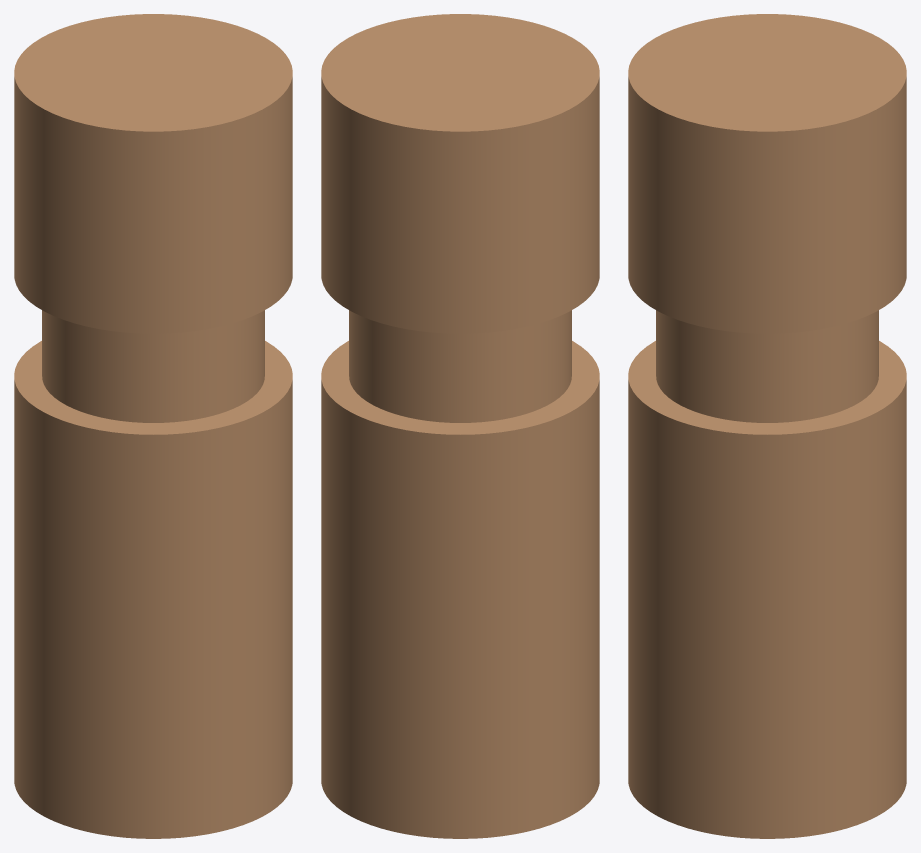
The model's file is step_12.glb.
3 renders of one model, left to right at view 1: azimuth 30°, elevation 25°; view 2: azimuth 150°, elevation 25°; view 3: azimuth 270°, elevation 25°, orthographic.
Parts seen in each view (by area): view 1: part__screw M20 x 2.5 x 56; view 2: part__screw M20 x 2.5 x 56; view 3: part__screw M20 x 2.5 x 56.
Part boxes in pixels (x1,y1,x2,y2): part__screw M20 x 2.5 x 56: [14, 14, 292, 838]; part__screw M20 x 2.5 x 56: [321, 14, 599, 838]; part__screw M20 x 2.5 x 56: [628, 14, 906, 838].
Size of the model in its own units: 19.99 by 56 by 19.99.
